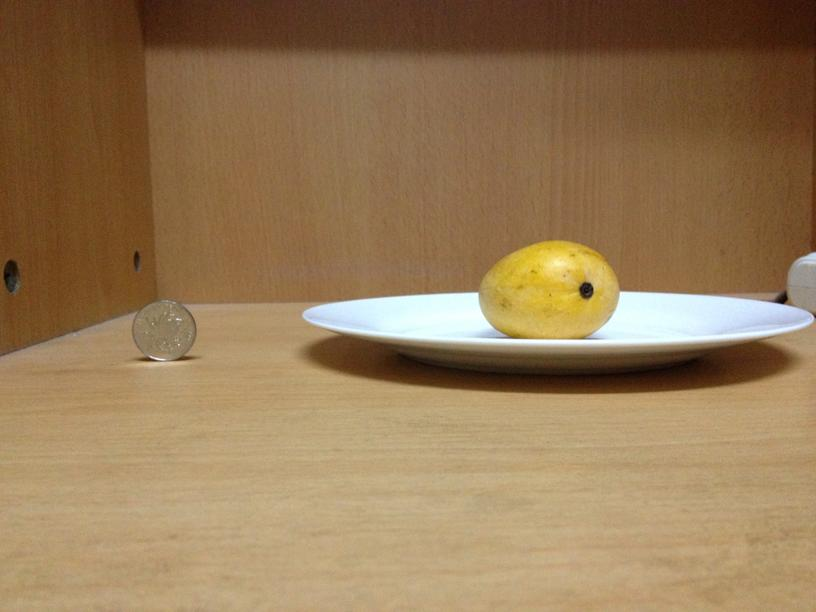coin: (130, 297, 198, 360)
mango: (483, 239, 619, 337)
